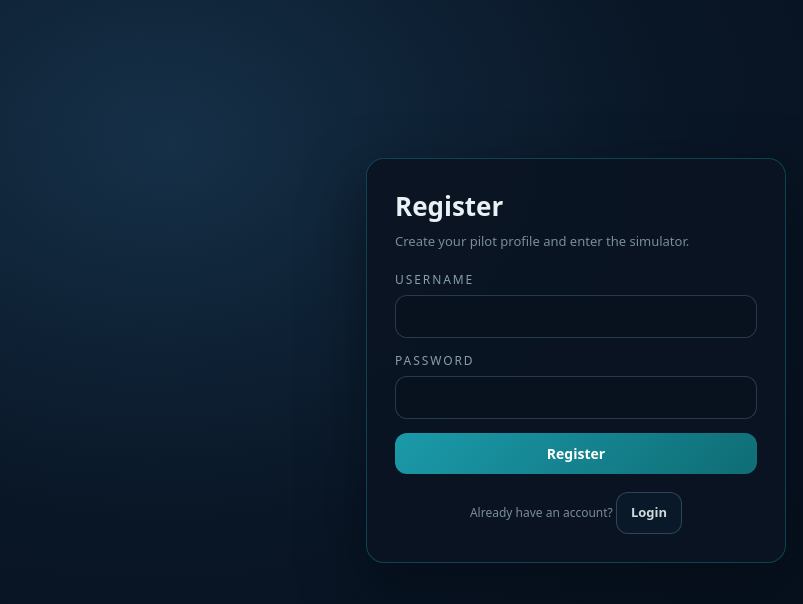
Test: pages/register › shows registration failure and login failure
Type "captain" into the field labelled "Username" at {"x": 576, "y": 316}, box left=395, top=295, right=757, bottom=338
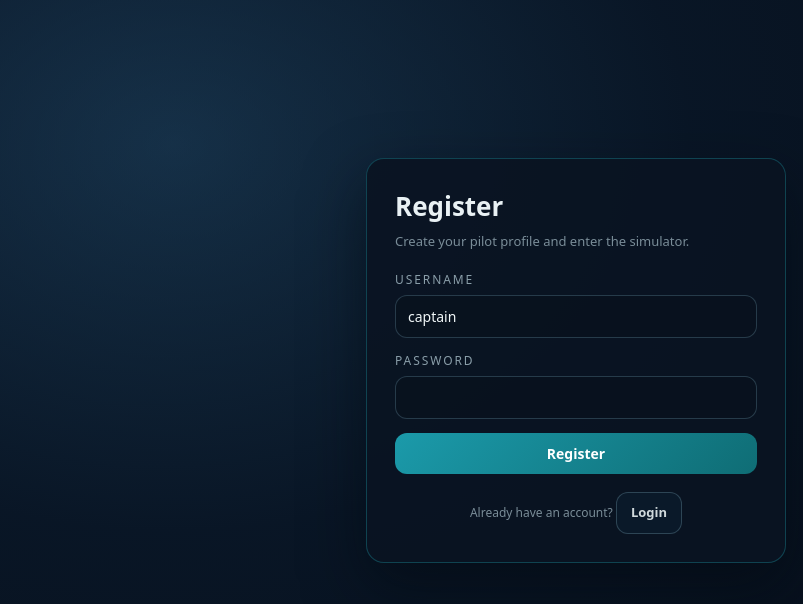
Type "secret" into the password field labelled "Password" at {"x": 576, "y": 398}, box left=395, top=376, right=757, bottom=419
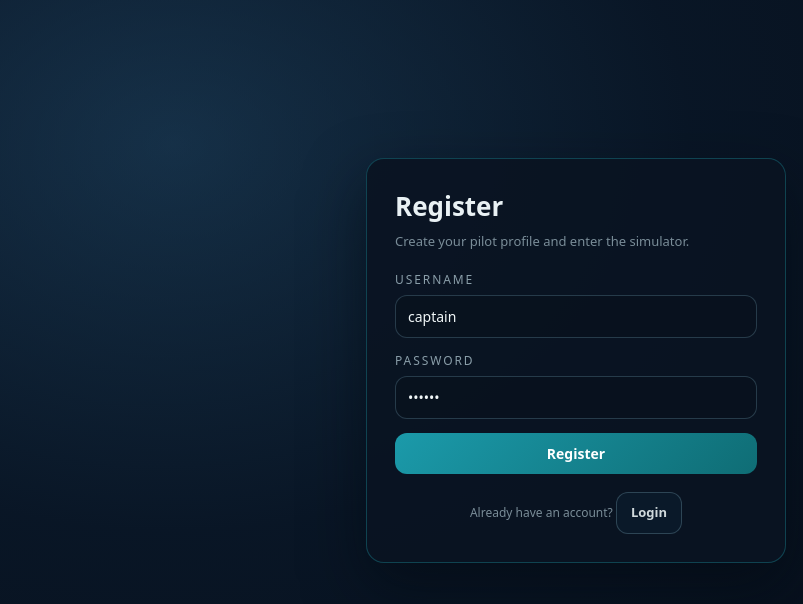
Click the button "Register" at {"x": 576, "y": 454}, box left=395, top=433, right=757, bottom=474
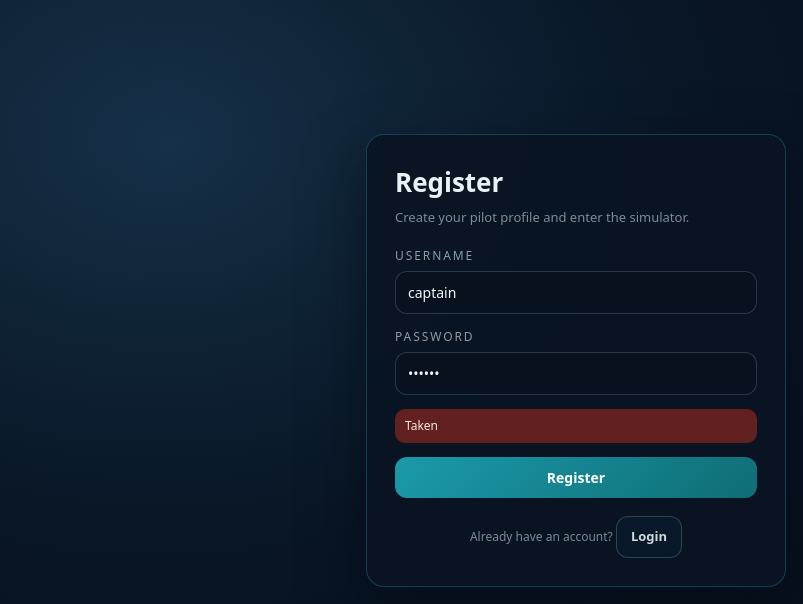
Now the text "Taken" is shown, box left=395, top=409, right=757, bottom=443
Click the button "Register" at {"x": 576, "y": 478}, box left=395, top=457, right=757, bottom=498
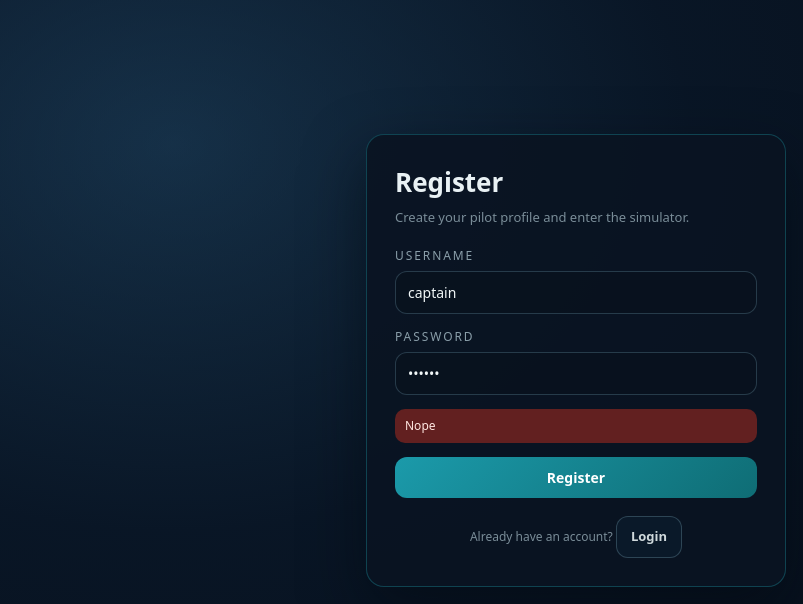
Now the text "Nope" is shown, box left=395, top=409, right=757, bottom=443
